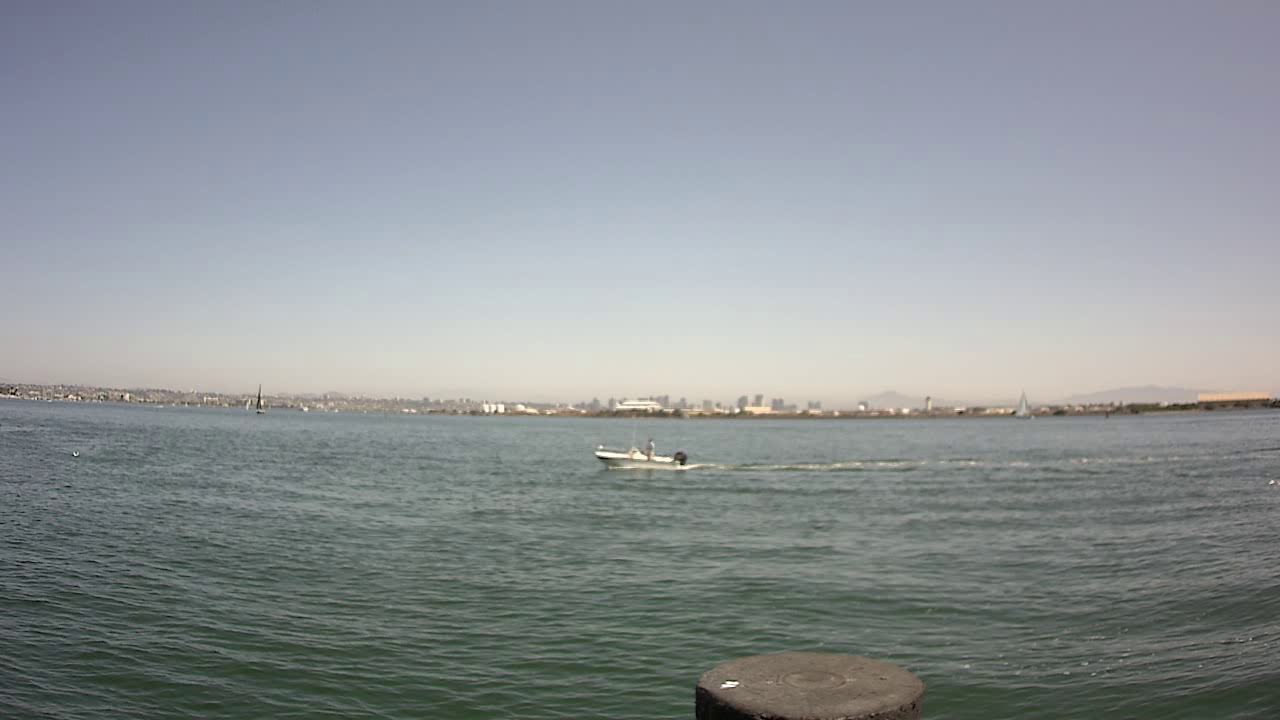target: (585, 420, 698, 485)
